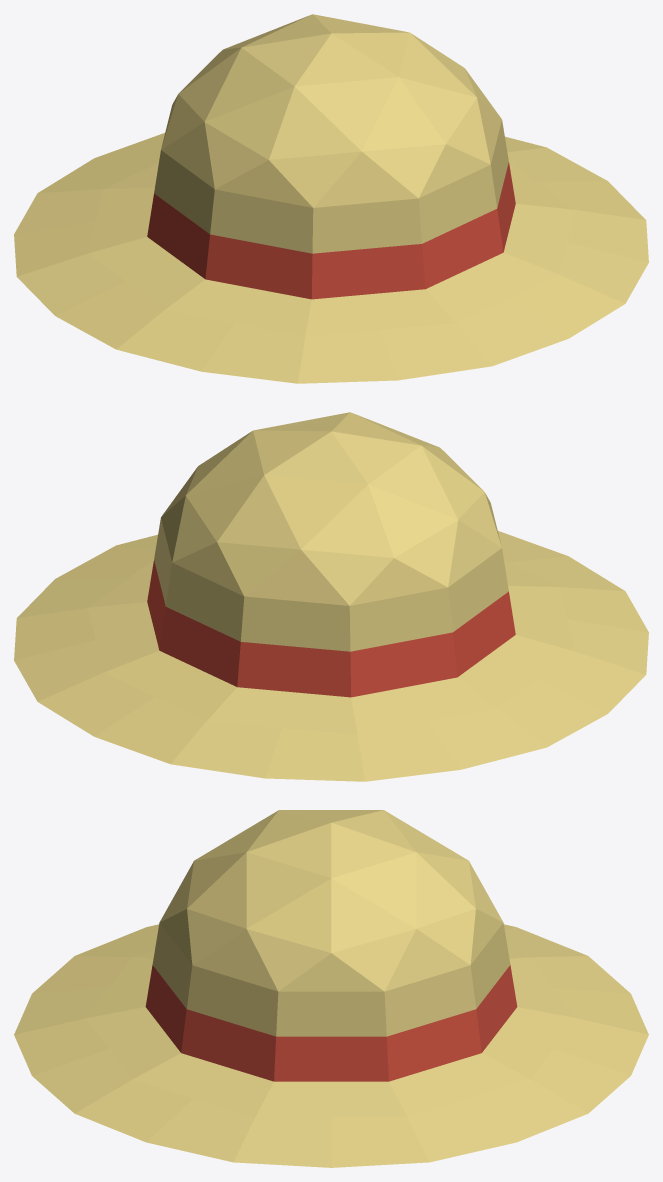
Rendered from Hat.fbx.
The picture shows the model from 3 angles, top to bottom: view 1: azimuth 30°, elevation 25°; view 2: azimuth 150°, elevation 25°; view 3: azimuth 270°, elevation 25°; orthographic projection.
Parts seen in each view (by area): view 1: Hat; view 2: Hat; view 3: Hat.
Boxes of the visible parts, box(x1,y1,x2,y2) form: Hat: box(14, 14, 648, 383); Hat: box(14, 412, 648, 781); Hat: box(14, 810, 648, 1167).
Bounding box in the file's own units: 237 × 88.2 × 239.
